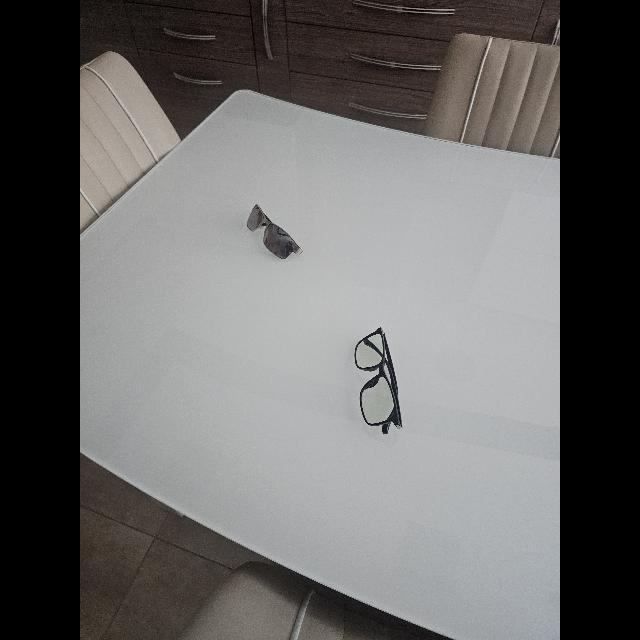Sunglasses: (247, 204, 303, 260)
glasses: (354, 328, 402, 434)
